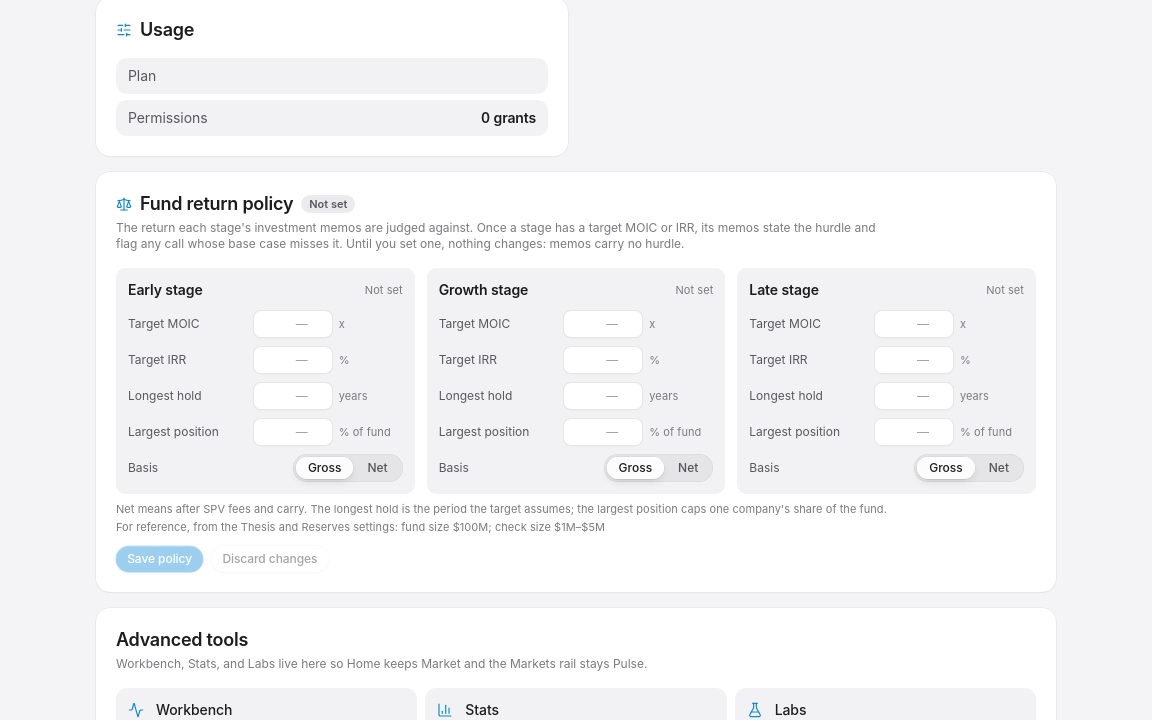
Scenario: Settings fund return policy › says why a save failed, and keeps the draft
The width and height of the screenshot is (1152, 720).
(page scrolled)
Type "40" into the number field labelled "Target IRR %" below "Early stage" at (293, 360), box [253,346,333,374]
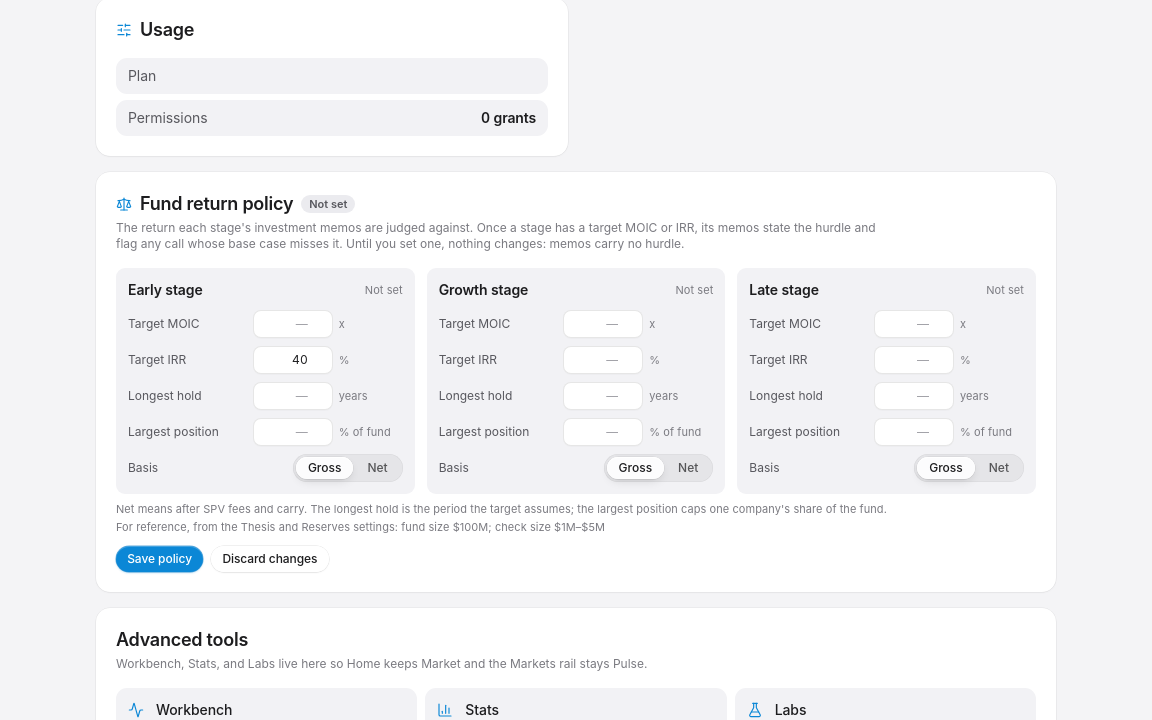
Click the button with test id "fund-policy-save" at (160, 559), box [116,546,203,572]
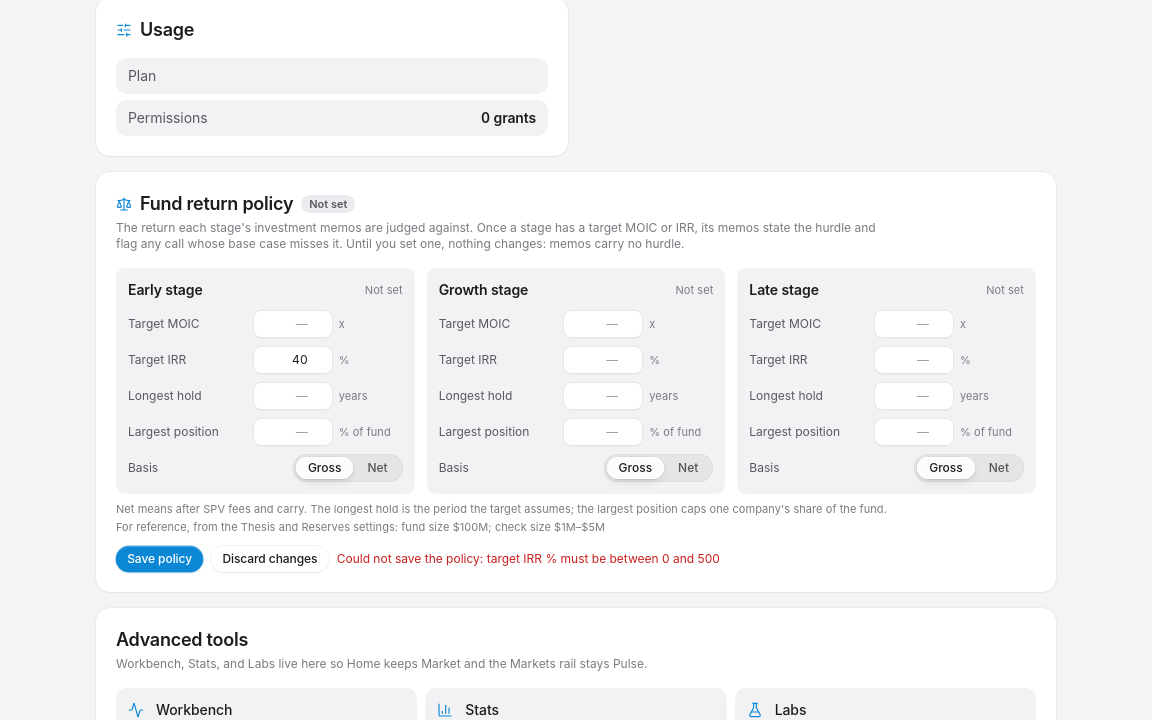
expect the message with test id "fund-policy-error" reads "Could not save the policy: target IRR % must be between 0 and 500": met, box [337,551,720,566]
